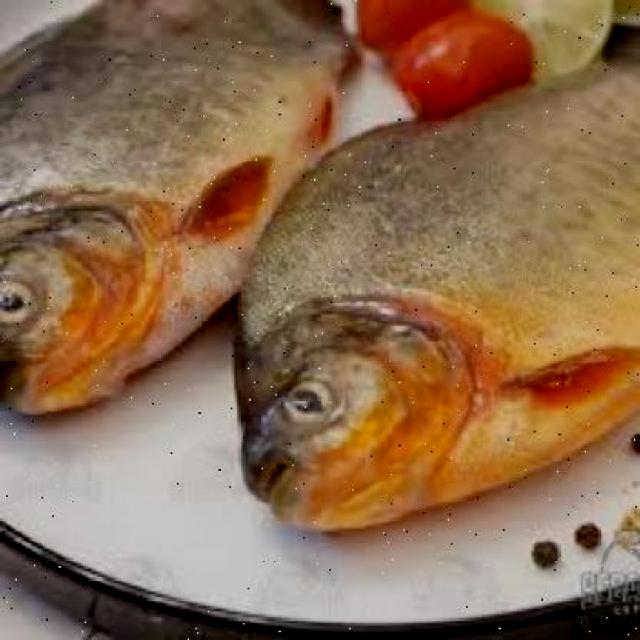ikan-pacu: (232, 31, 640, 542), (0, 0, 360, 409)
